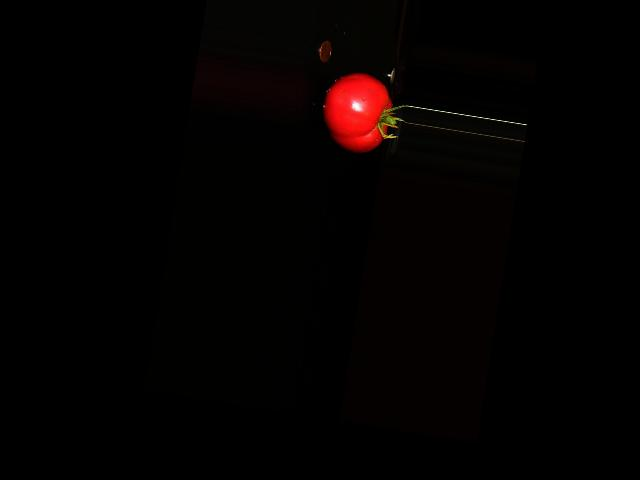tomato: (316, 68, 396, 158)
